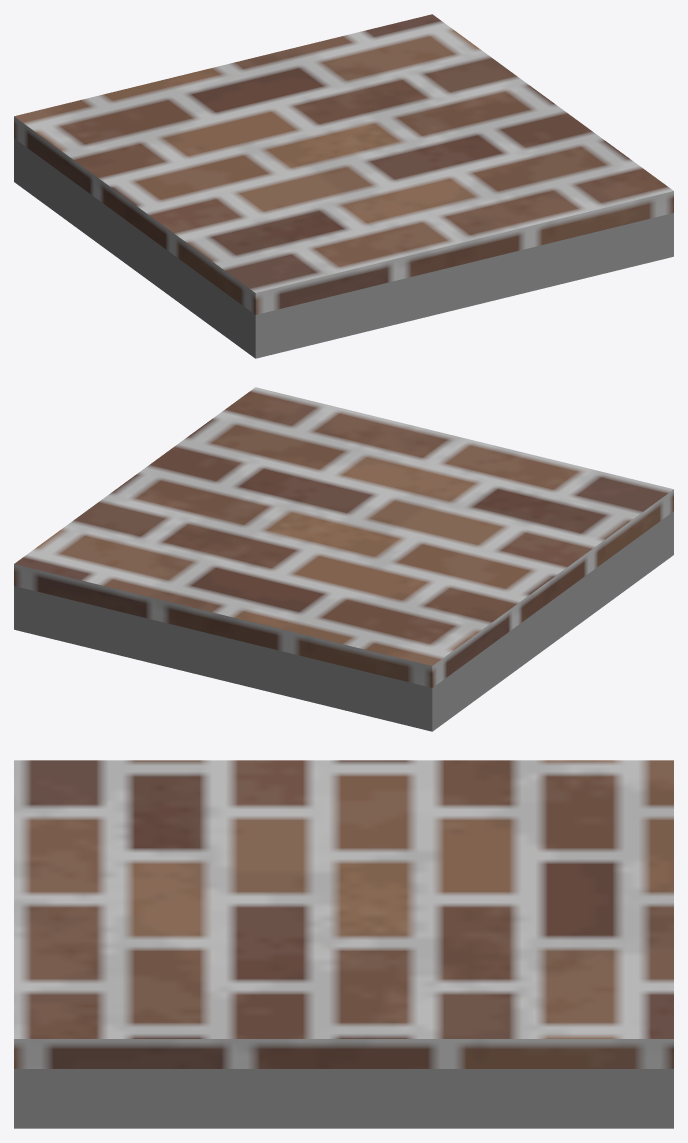
File: Normal_Floor_004.FBX
The picture shows the model from 3 angles, top to bottom: view 1: azimuth 30°, elevation 25°; view 2: azimuth 150°, elevation 25°; view 3: azimuth 270°, elevation 25°; orthographic projection. The views are drawn at different scales.
Visible parts, largest first — view 1: Normal_Floor_004; view 2: Normal_Floor_004; view 3: Normal_Floor_004.
Part boxes in pixels (box(x1,y1,x2,y2)): Normal_Floor_004: box(14, 14, 673, 358); Normal_Floor_004: box(14, 387, 673, 731); Normal_Floor_004: box(14, 760, 673, 1128).
Bounding box in the file's own units: 100 × 100 × 15.
